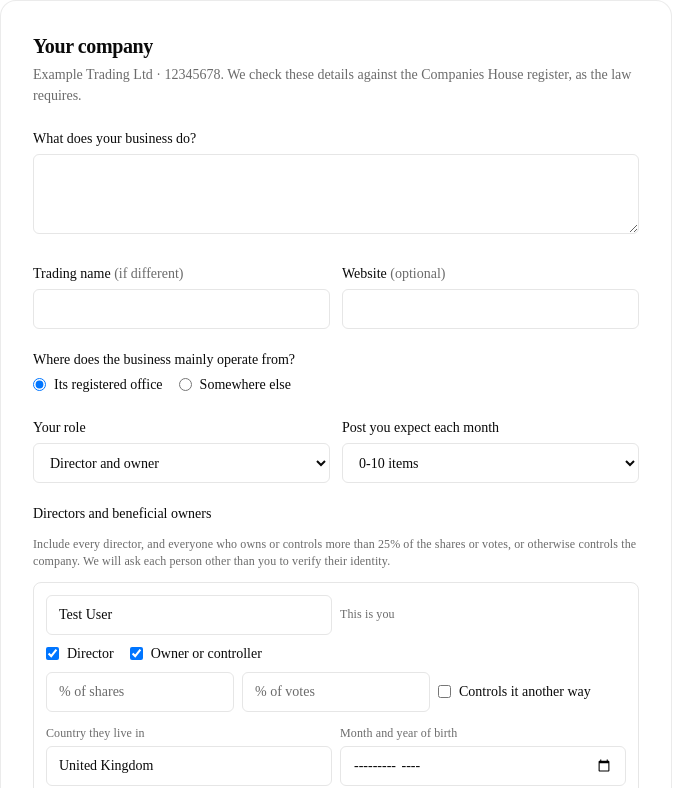
Test: Company declaration: customer › says which person needs an email instead of failing silently
Expected: the field showing "Test User" is shown, [46, 595, 332, 635]
Type "Software consultancy for small firms" into the text box labelled "What does your business do?" at (336, 194), box [33, 154, 639, 234]
(page scrolled)
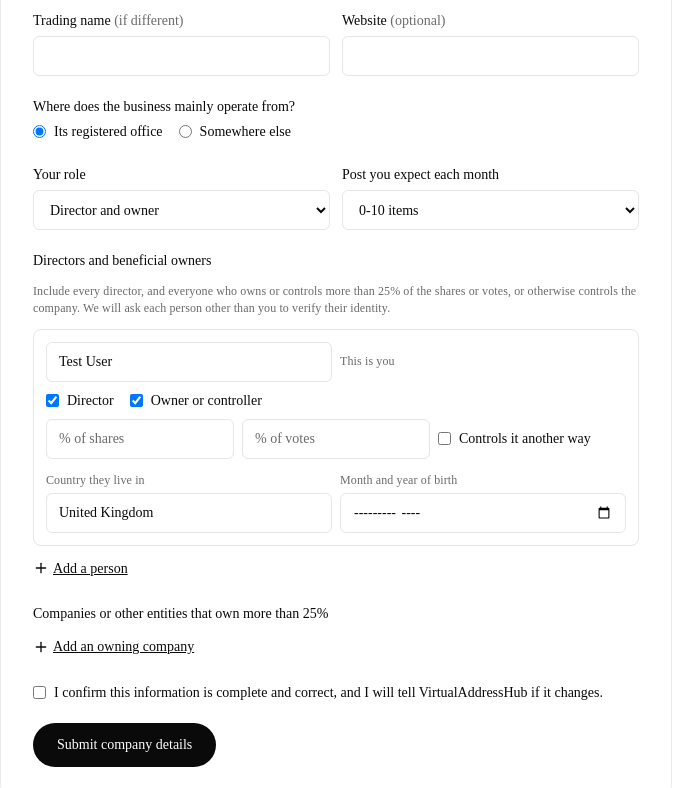
Click the button "Add a person" at (80, 568), box [33, 558, 128, 579]
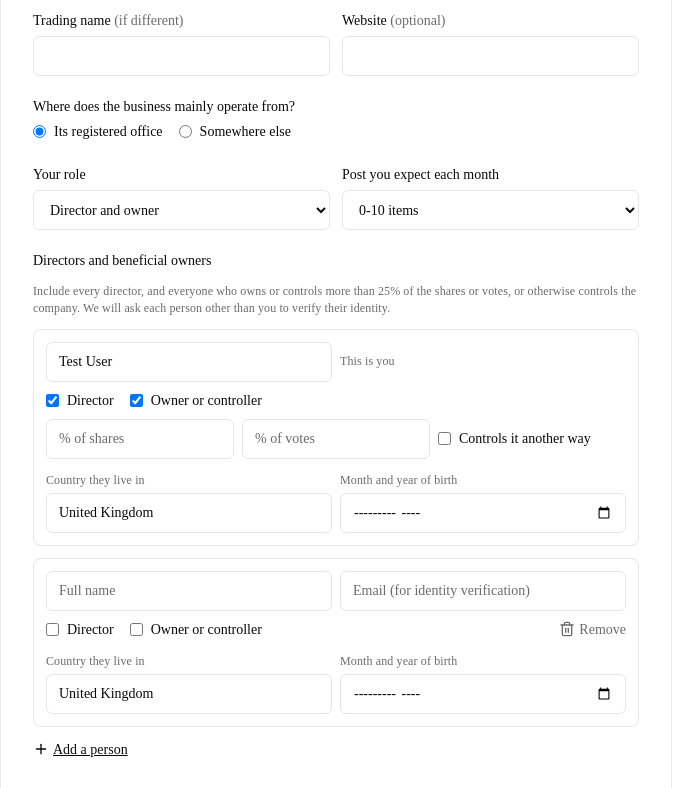
Type "Anna Other" into the field named "Person 2 name" at (189, 591), box [46, 571, 332, 611]
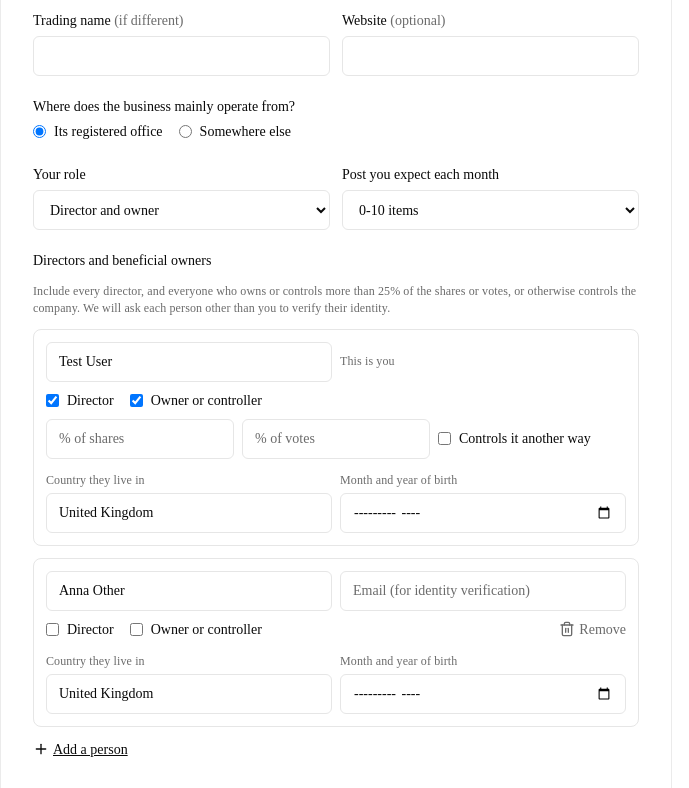
Click the 2nd checkbox labelled "Director" at (52, 629), box [46, 623, 59, 636]
(page scrolled)
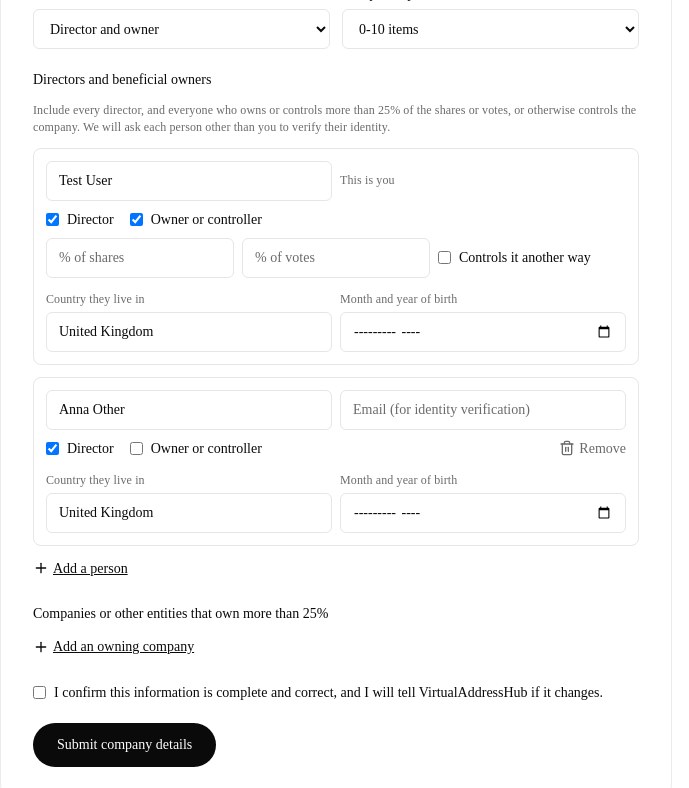
Click the checkbox labelled "I confirm" at (40, 692), box [33, 686, 46, 699]
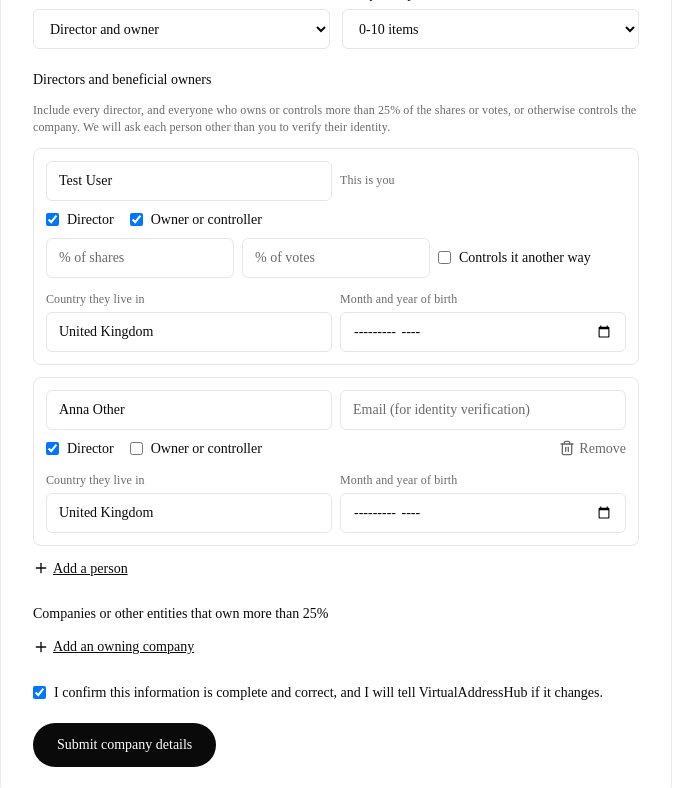
Click the button "Submit company details" at (125, 745), box [33, 723, 216, 767]
(page scrolled)
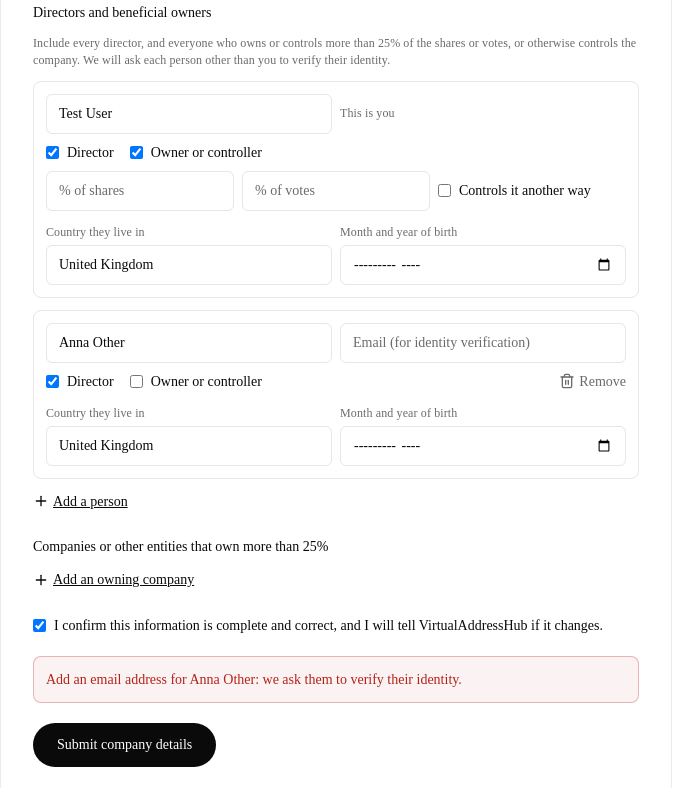
Now the message shows "Add an email address for Anna Other", box [46, 672, 462, 687]
